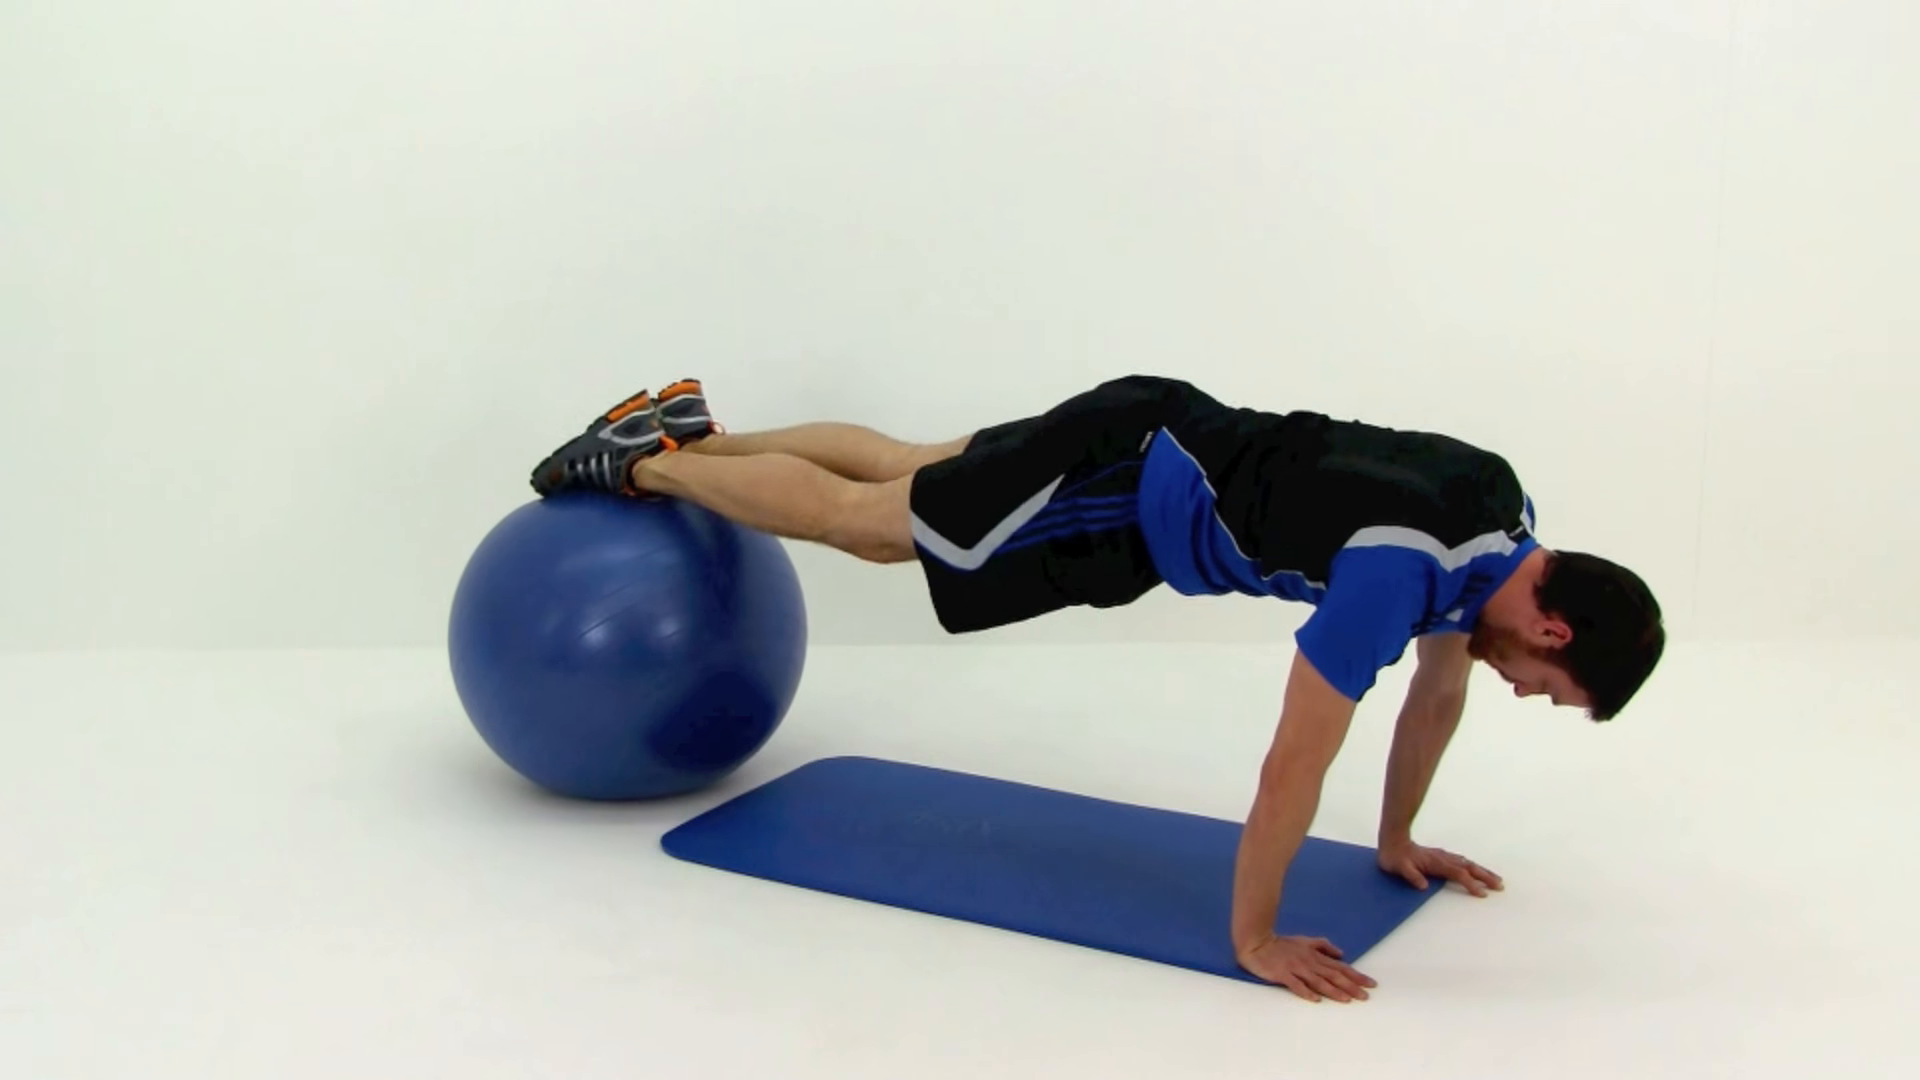yogaball: (438, 481, 816, 814)
